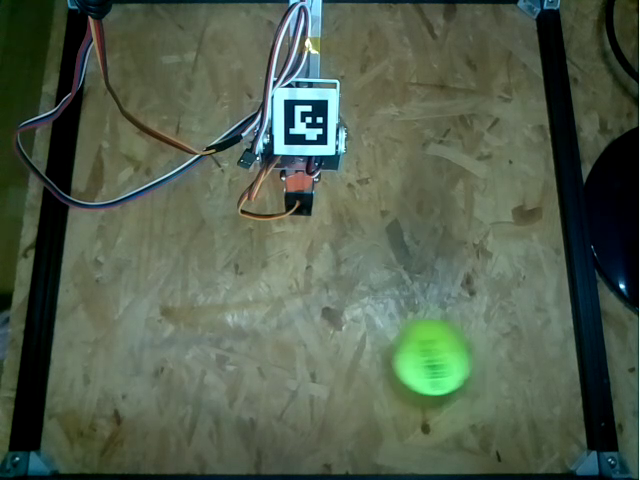tennis_ball: (393, 318, 472, 397)
